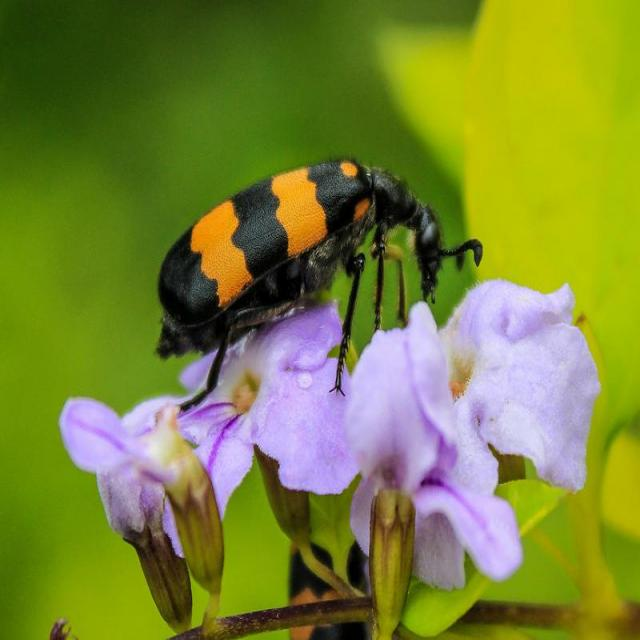BlisterBeetle-Adult-: (125, 151, 507, 407)
